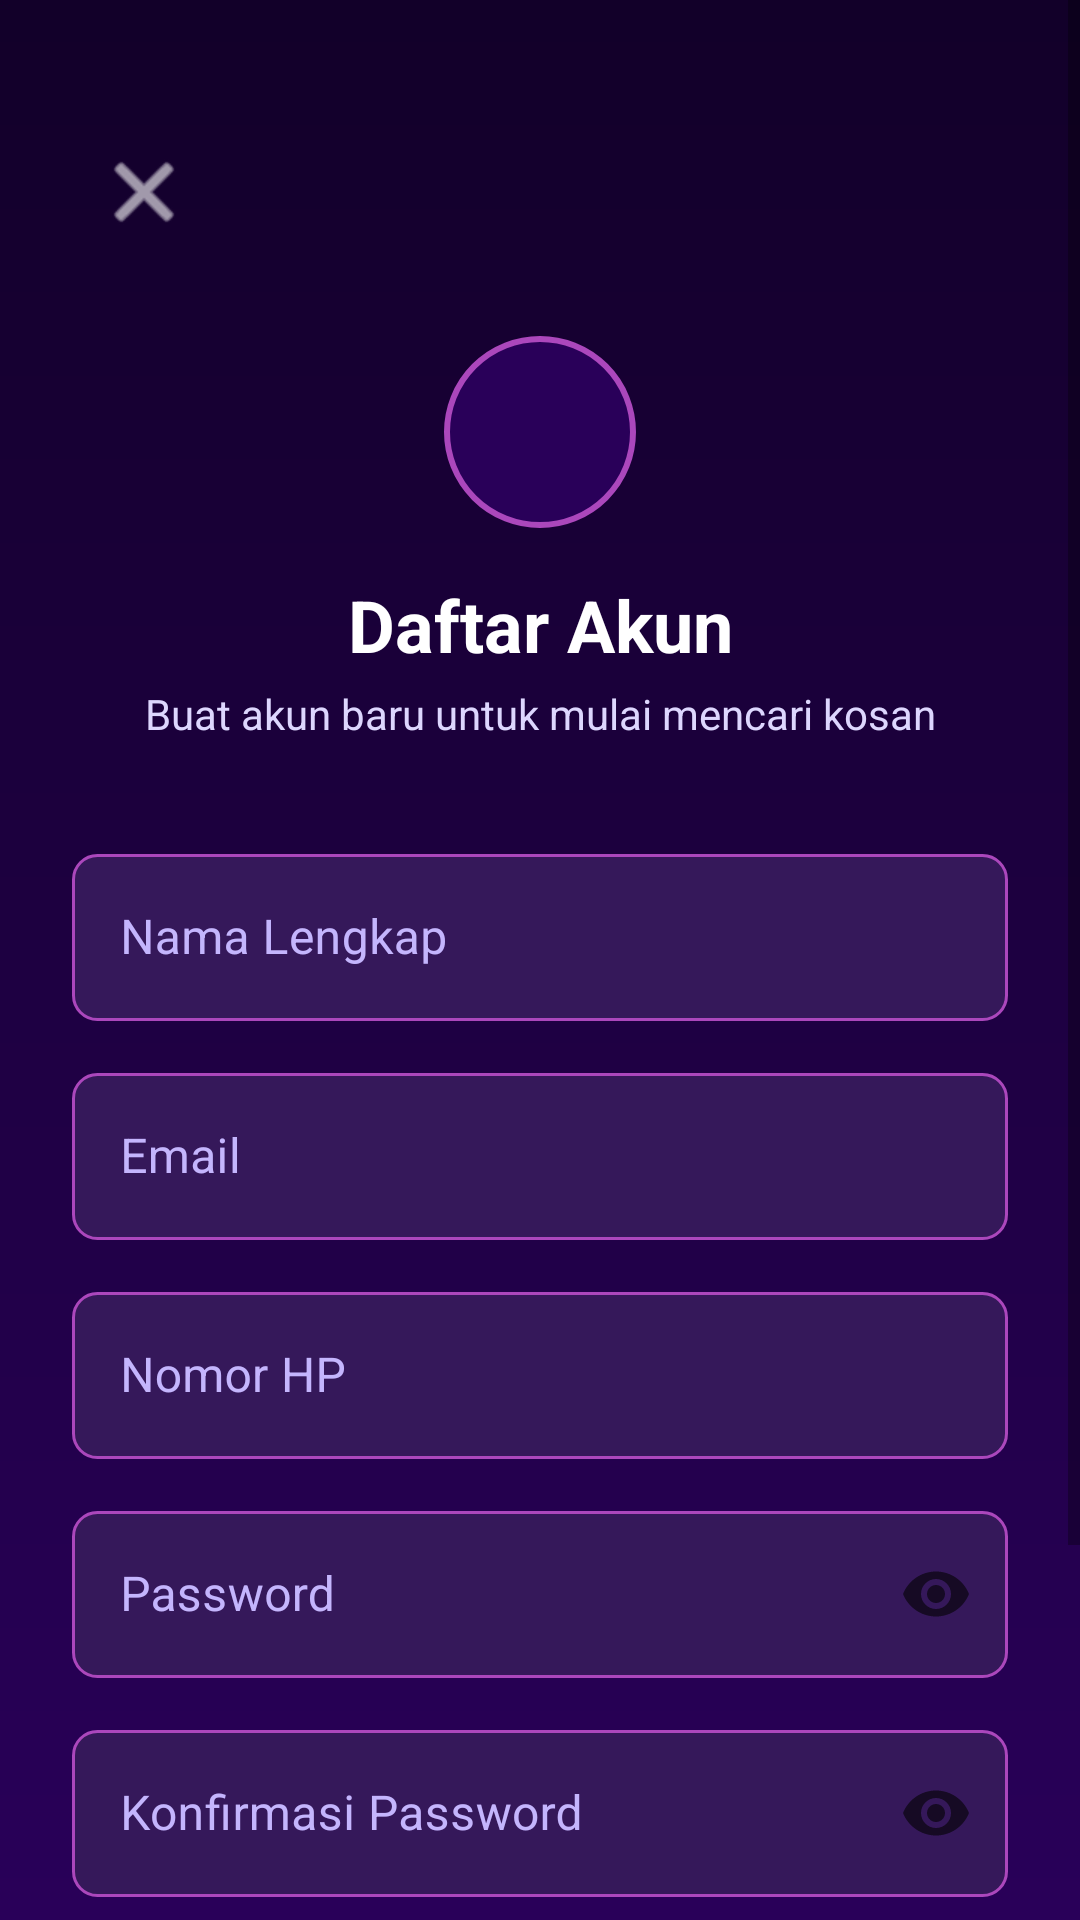

Screen size 1080×1920. Icon name, then its box in pixels as bbox=(x1, y1, x2, y2):
Kembali: bbox=(114, 162, 174, 222)
